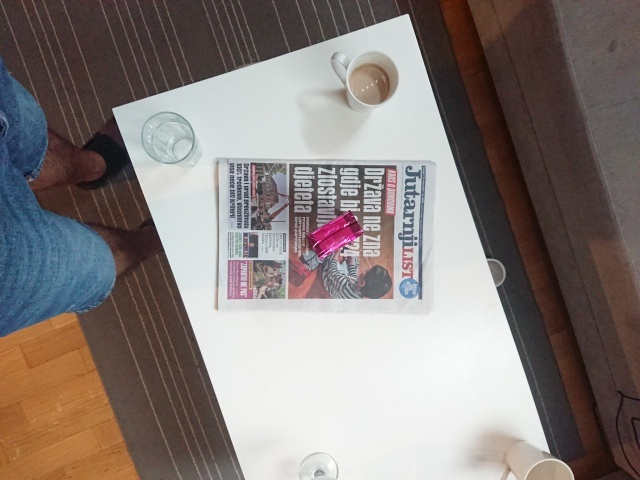Barcaffe Classic Original 225g: (304, 208, 366, 263)
